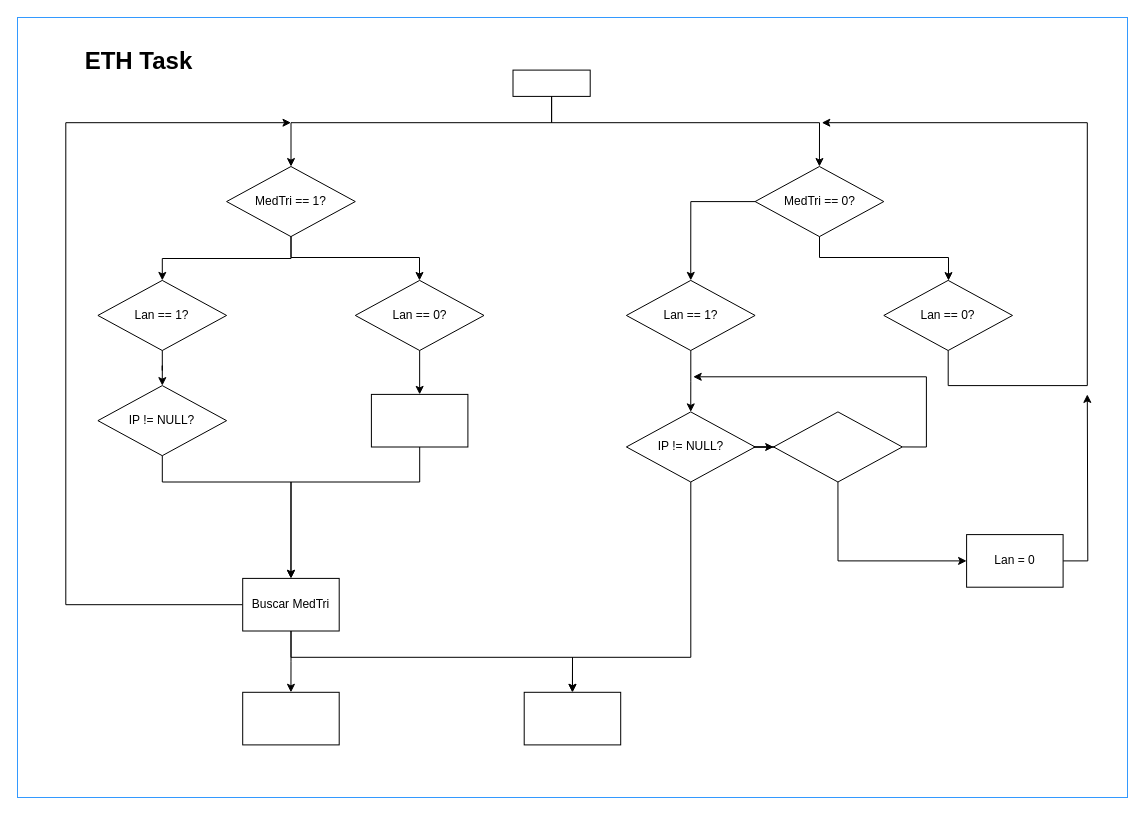
This 1145x815 diagram has some shape labels left out. The centre of each missing label's shape, as x and y in pixels:
"CheckforChanges" belongs at (x=572, y=718).
"Encender DHCP" belongs at (x=419, y=420).
"Leer MedTri" belongs at (x=290, y=718).
"Power On" belongs at (x=551, y=82).
"Timeout == 0?" belongs at (x=837, y=446).
